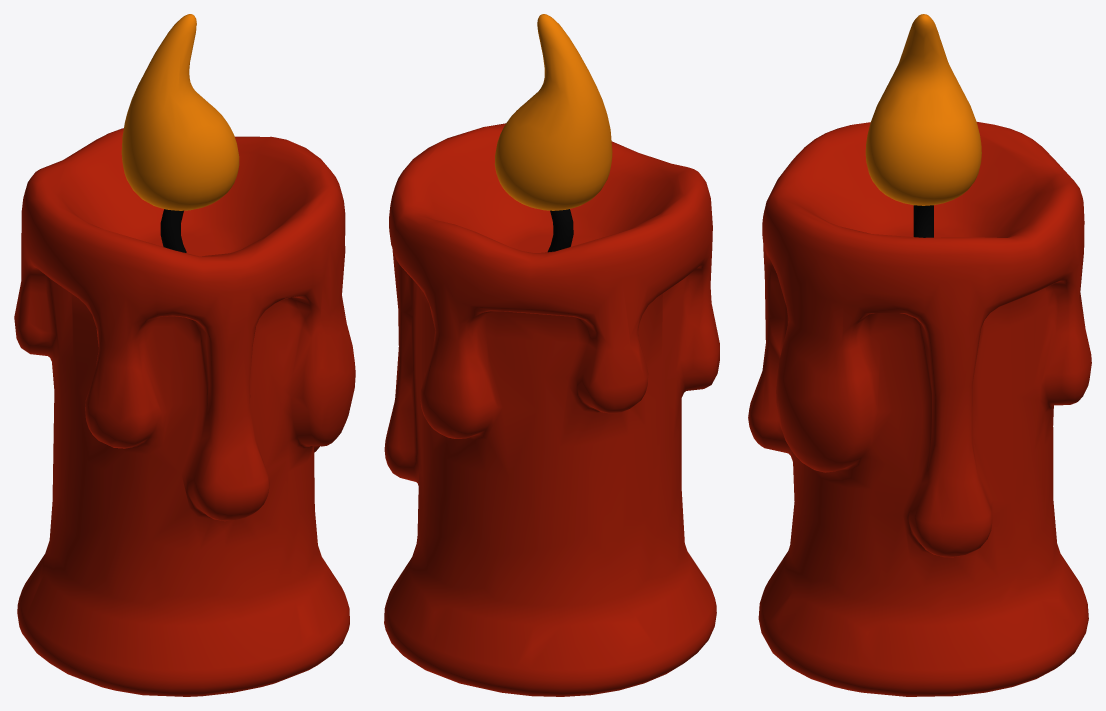
The model's file is Red_candles.glb.
3 renders of one model, left to right at view 1: azimuth 30°, elevation 25°; view 2: azimuth 150°, elevation 25°; view 3: azimuth 270°, elevation 25°, orthographic.
Visible parts, largest first — view 1: 3d66-Editable_Poly-22789774-001, 3d66-Editable_Poly-22789774-003, 3d66-Editable_Poly-22789774-002; view 2: 3d66-Editable_Poly-22789774-001, 3d66-Editable_Poly-22789774-003, 3d66-Editable_Poly-22789774-002; view 3: 3d66-Editable_Poly-22789774-001, 3d66-Editable_Poly-22789774-003, 3d66-Editable_Poly-22789774-002.
Part boxes in pixels (left/top/right/bottom): 3d66-Editable_Poly-22789774-001: left=14, top=128, right=355, bottom=696; 3d66-Editable_Poly-22789774-003: left=121, top=14, right=239, bottom=210; 3d66-Editable_Poly-22789774-002: left=160, top=209, right=186, bottom=252; 3d66-Editable_Poly-22789774-001: left=384, top=123, right=719, bottom=696; 3d66-Editable_Poly-22789774-003: left=494, top=14, right=612, bottom=210; 3d66-Editable_Poly-22789774-002: left=547, top=209, right=573, bottom=252; 3d66-Editable_Poly-22789774-001: left=748, top=122, right=1091, bottom=696; 3d66-Editable_Poly-22789774-003: left=865, top=14, right=981, bottom=205; 3d66-Editable_Poly-22789774-002: left=913, top=205, right=933, bottom=237.
Bounding box in the file's own units: 0.4568 × 0.9424 × 0.4694.
